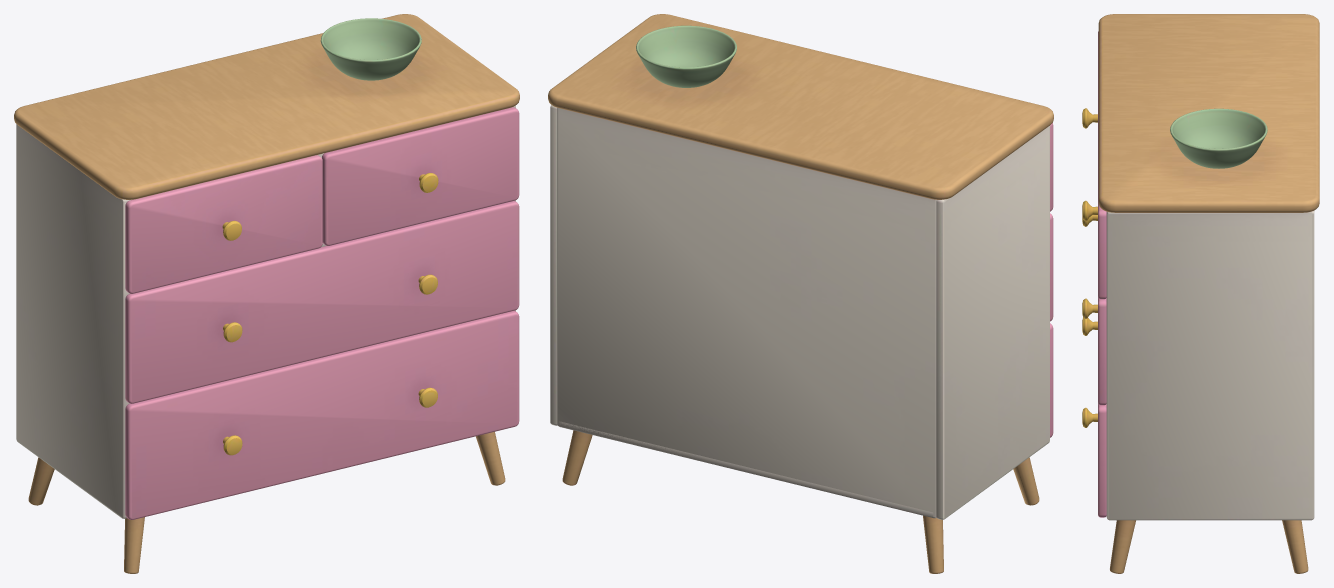
File: dresser.glb
3 views of the same model, side by side, from view 1: azimuth 30°, elevation 25°; view 2: azimuth 150°, elevation 25°; view 3: azimuth 270°, elevation 25° (orthographic). The views are drawn at different scales.
Visible parts, largest first — view 1: dresser_body, dresser_drawer; view 2: dresser_body; view 3: dresser_body, dresser_drawer.
Part boxes in pixels (bbox=[...]): dresser_body: bbox=[14, 14, 519, 573]; dresser_drawer: bbox=[125, 155, 322, 293]; dresser_body: bbox=[548, 14, 1053, 573]; dresser_body: bbox=[1082, 14, 1319, 573]; dresser_drawer: bbox=[1082, 31, 1098, 128].
Size of the model in its own units: 0.924 by 0.9246 by 0.4874.
Materials: 2 (2 with a texture image).
